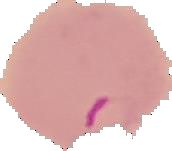parasitized: (81, 93, 147, 134)
